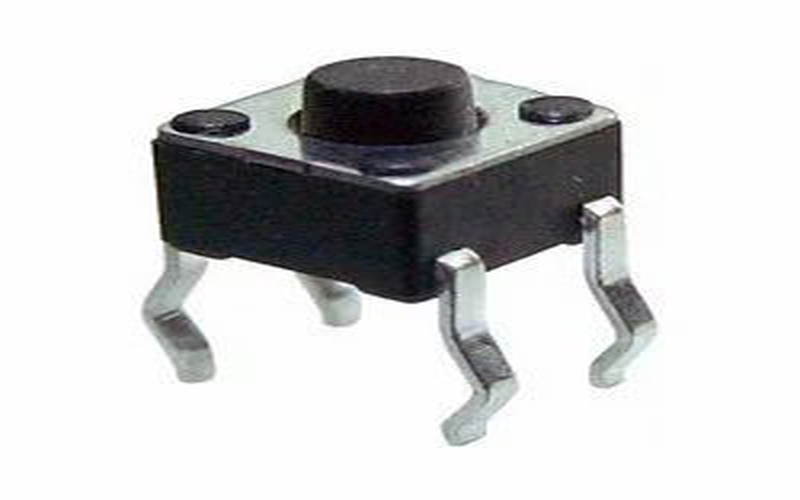Switches: (113, 33, 672, 455)
